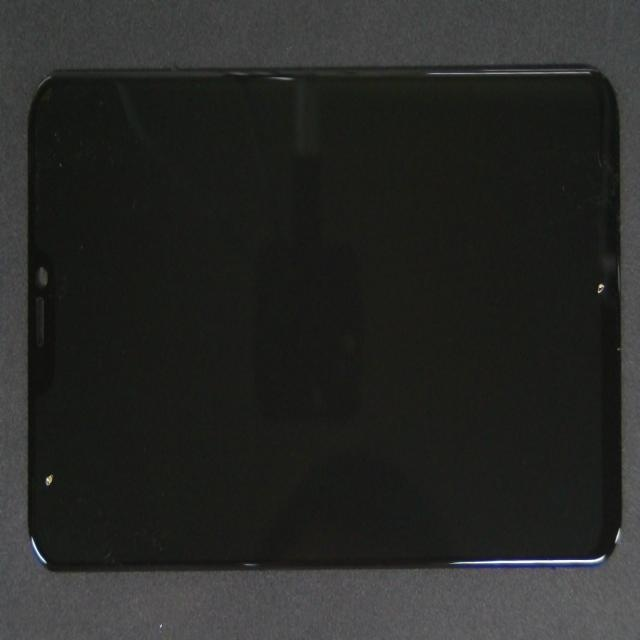stain: (3, 199, 53, 640)
